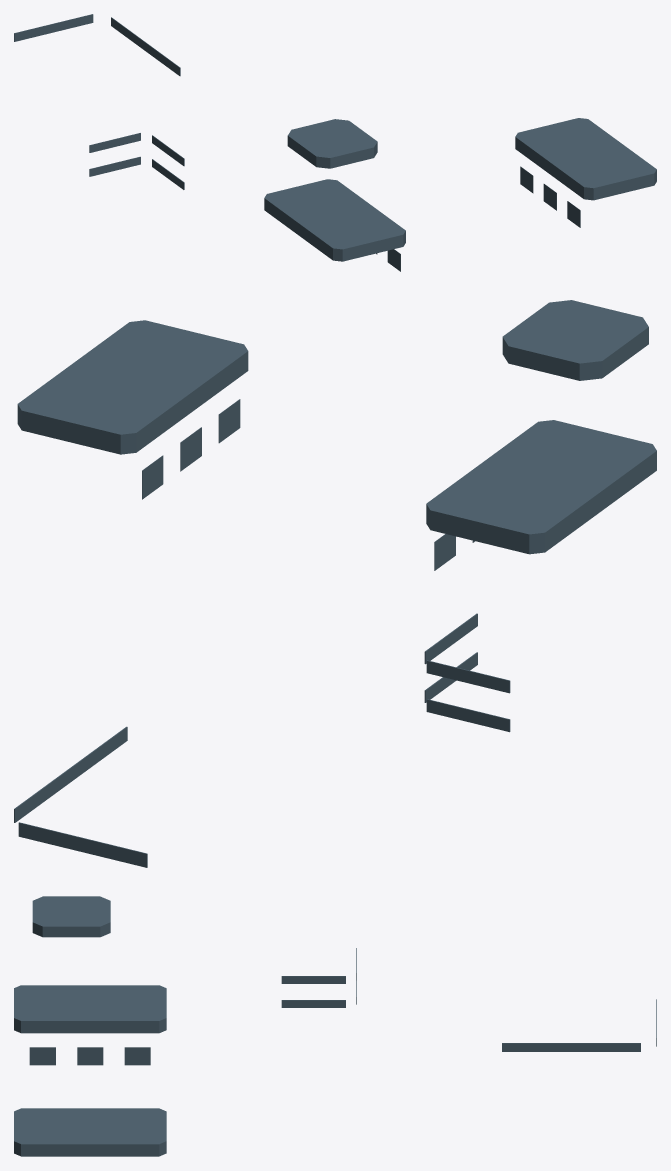
The model's file is AviationGlazing.gltf.
3 renders of one model, top to bottom at view 1: azimuth 30°, elevation 25°; view 2: azimuth 150°, elevation 25°; view 3: azimuth 270°, elevation 25°, orthographic. The views are drawn at different scales.
Parts seen in each view (by area): view 1: AviationGlazing; view 2: AviationGlazing; view 3: AviationGlazing.
Part boxes in pixels (bbox=[...]): AviationGlazing: bbox=[14, 14, 656, 271]; AviationGlazing: bbox=[14, 300, 656, 867]; AviationGlazing: bbox=[14, 896, 656, 1156].
Bounding box in the file's own units: 137 × 42.45 × 190.
